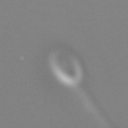normal: (75, 84, 113, 128)
